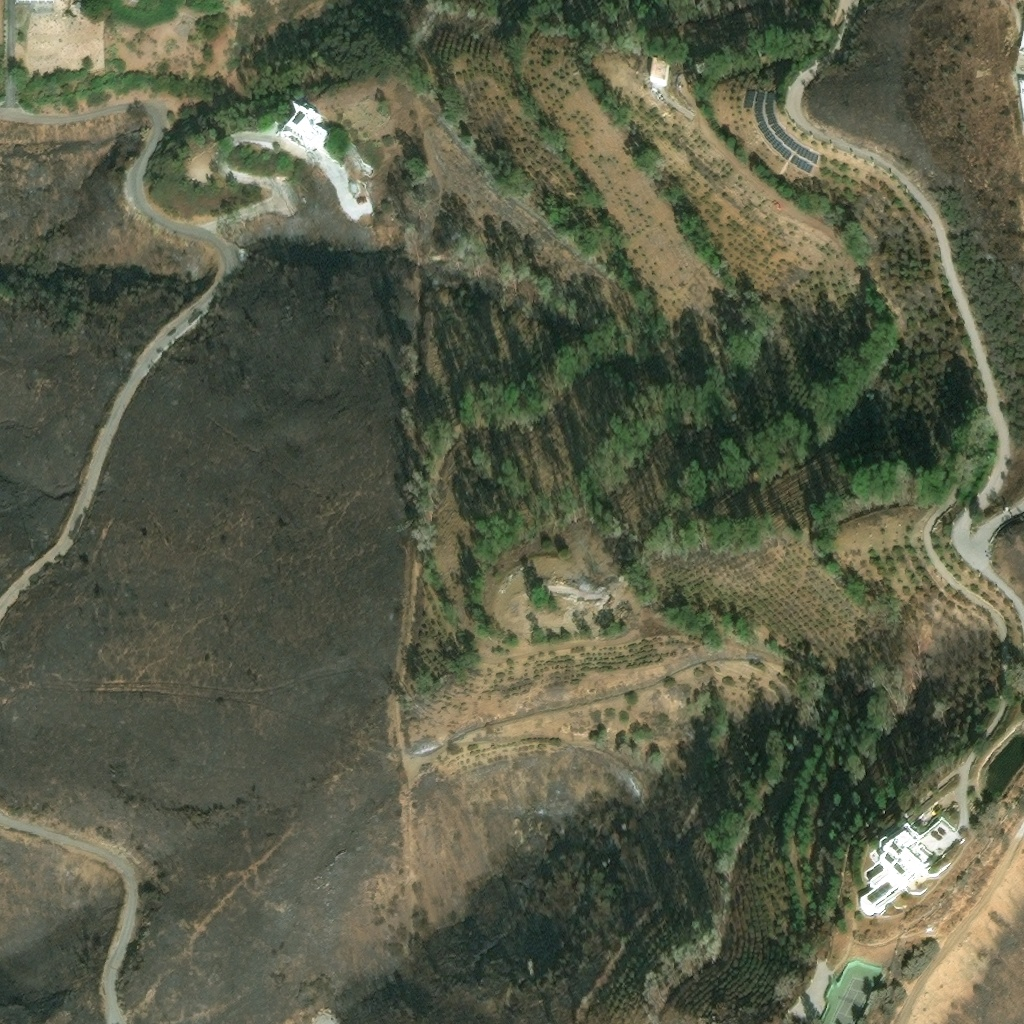0 no-damage: (859, 821, 959, 918), (282, 102, 328, 150), (647, 56, 671, 87), (692, 59, 712, 72)
4 un-classified: (16, 0, 50, 4)
